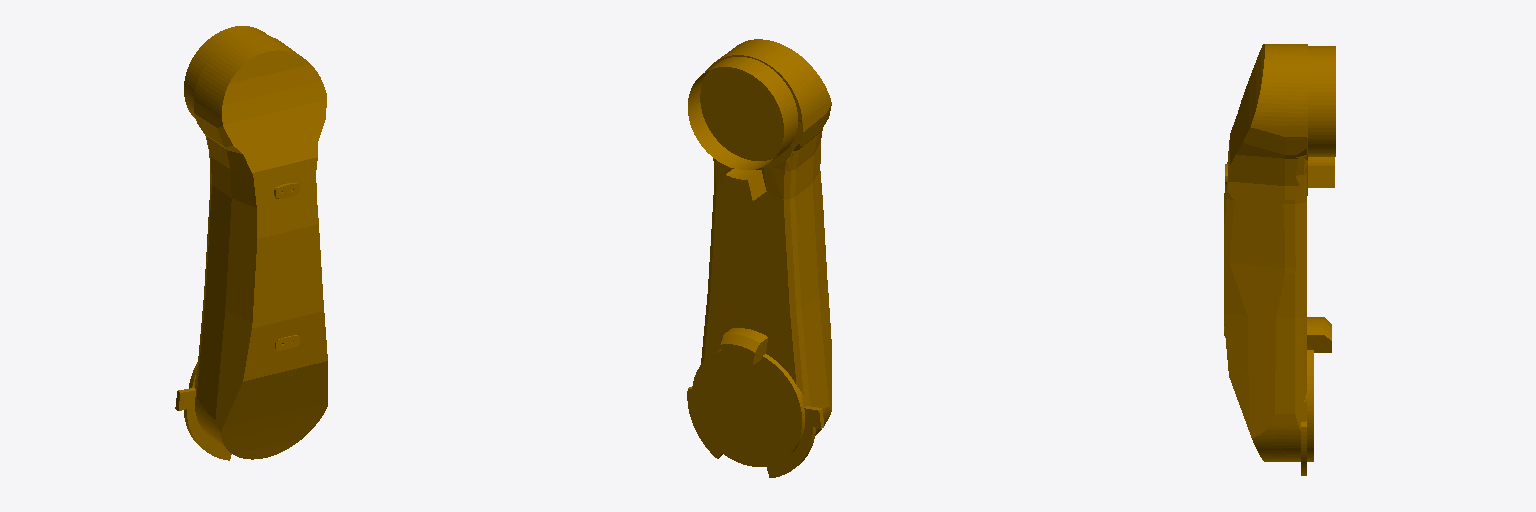
3 views of the same model, side by side, from view 1: azimuth 30°, elevation 25°; view 2: azimuth 150°, elevation 25°; view 3: azimuth 270°, elevation 25° (orthographic).
Parts seen in each view (by area): view 1: kr60_3_kr60_3.005; view 2: kr60_3_kr60_3.005; view 3: kr60_3_kr60_3.005.
Boxes of the visible parts, x1,y1,x2,y2 form: kr60_3_kr60_3.005: [175, 26, 327, 460]; kr60_3_kr60_3.005: [687, 39, 831, 477]; kr60_3_kr60_3.005: [1224, 44, 1335, 475].
Size of the model in its own units: 0.4689 by 1.4 by 0.3403.